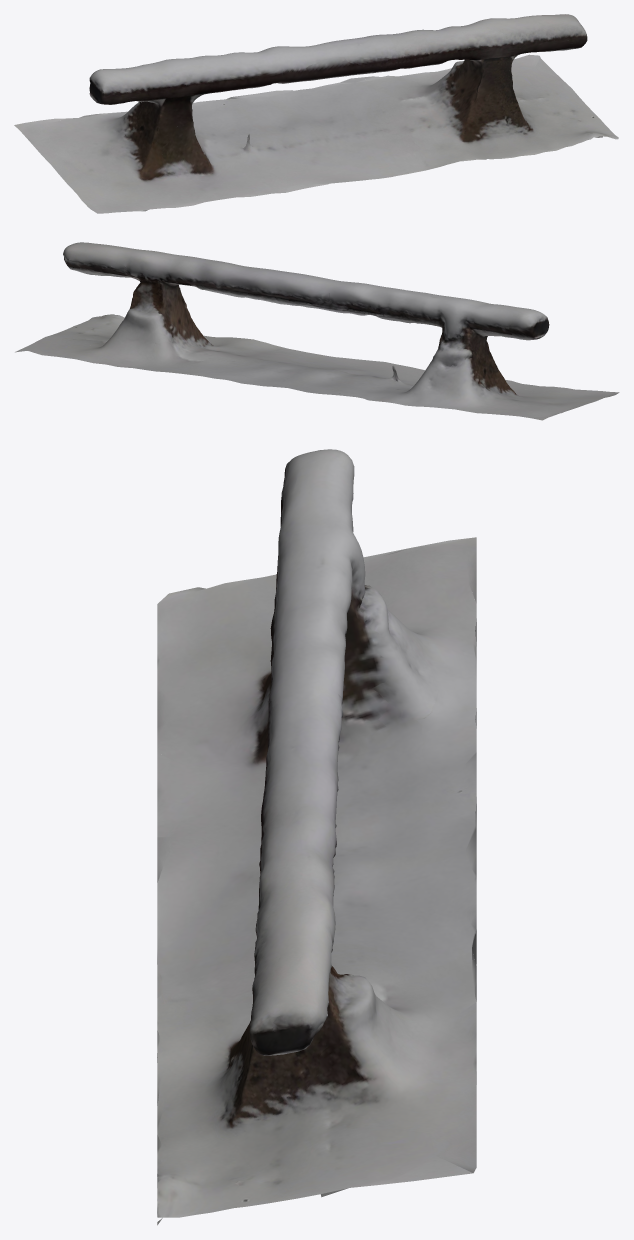
File: bench_covered_in_snow.glb
3 views of the same model, one above another, from view 1: azimuth 30°, elevation 25°; view 2: azimuth 150°, elevation 25°; view 3: azimuth 270°, elevation 25° (orthographic). The views are drawn at different scales.
Parts seen in each view (by area): view 1: Object_4; view 2: Object_4; view 3: Object_4.
Part boxes in pixels (left/top/right/bottom): Object_4: left=14, top=14, right=618, bottom=213; Object_4: left=15, top=242, right=619, bottom=420; Object_4: left=157, top=449, right=476, bottom=1225.
Size of the model in its own units: 0.37 by 0.1043 by 0.0972.
1 material, 1 textured.
